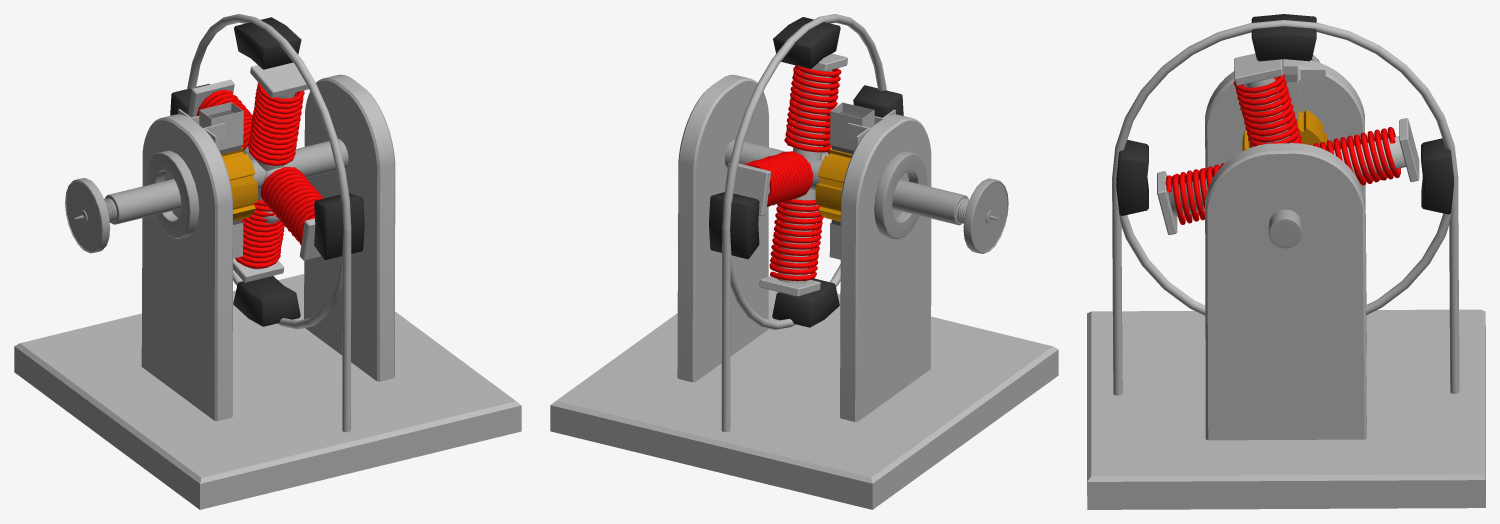
File: motar (1).fbx
3 renders of one model, left to right at view 1: azimuth 30°, elevation 25°; view 2: azimuth 150°, elevation 25°; view 3: azimuth 270°, elevation 25°, orthographic. The views are drawn at different scales.
Parts seen in each view (by area): view 1: MOUNT_0, MAGNETS_0, MAGNET_RETAINER_0, polySurface1, WINDINGBOTTOM_0, WINDINGRIGHT_0, polySurface3, polySurface2, WINDINGTOP_0, bruskcontact_0, Cube.003_0, bruush..hsg.upper_0 (+4 smaller); view 2: MOUNT_0, MAGNETS_0, MAGNET_RETAINER_0, WINDINGBOTTOM_0, WINDINGTOP_0, polySurface1, polySurface3, polySurface2, WINDINGLEFT_0, bruskcontact_0, WINDINGCORE2_0, bruush..hsg.upper_0 (+2 smaller); view 3: MOUNT_0, MAGNET_RETAINER_0, MAGNETS_0, WINDINGBOTTOM_0, WINDINGLEFT_0, WINDINGRIGHT_0, WINDINGCORE1_0, Cube.003_0, polySurface1, bruskcontact_0, Cube.002_0, Cube_0 (+3 smaller).
Boxes of the visible parts, x1=… form: MOUNT_0: x1=14, y1=74, x2=521, y2=509; MAGNETS_0: x1=170, y1=17, x2=364, y2=326; MAGNET_RETAINER_0: x1=187, y1=14, x2=351, y2=432; polySurface1: x1=74, y1=139, x2=348, y2=224; WINDINGBOTTOM_0: x1=248, y1=82, x2=304, y2=165; WINDINGRIGHT_0: x1=260, y1=167, x2=323, y2=244; polySurface3: x1=146, y1=150, x2=199, y2=238; polySurface2: x1=65, y1=178, x2=110, y2=253; WINDINGTOP_0: x1=235, y1=200, x2=284, y2=268; bruskcontact_0: x1=221, y1=146, x2=257, y2=221; Cube.003_0: x1=250, y1=62, x2=308, y2=97; bruush..hsg.upper_0: x1=199, y1=102, x2=243, y2=150; MOUNT_0: x1=550, y1=74, x2=1058, y2=509; MAGNETS_0: x1=709, y1=17, x2=903, y2=327; MAGNET_RETAINER_0: x1=721, y1=14, x2=886, y2=432; WINDINGBOTTOM_0: x1=784, y1=65, x2=841, y2=152; WINDINGTOP_0: x1=769, y1=199, x2=823, y2=281; polySurface1: x1=724, y1=139, x2=999, y2=225; polySurface3: x1=874, y1=151, x2=927, y2=239; polySurface2: x1=963, y1=178, x2=1008, y2=253; WINDINGLEFT_0: x1=743, y1=151, x2=813, y2=206; bruskcontact_0: x1=815, y1=147, x2=852, y2=221; WINDINGCORE2_0: x1=778, y1=68, x2=832, y2=283; bruush..hsg.upper_0: x1=830, y1=102, x2=874, y2=150; MOUNT_0: x1=1087, y1=59, x2=1485, y2=509; MAGNET_RETAINER_0: x1=1112, y1=20, x2=1459, y2=395; MAGNETS_0: x1=1116, y1=14, x2=1453, y2=215; WINDINGBOTTOM_0: x1=1233, y1=73, x2=1302, y2=147; WINDINGLEFT_0: x1=1308, y1=127, x2=1400, y2=185; WINDINGRIGHT_0: x1=1165, y1=163, x2=1224, y2=224; WINDINGCORE1_0: x1=1168, y1=136, x2=1405, y2=217; Cube.003_0: x1=1234, y1=53, x2=1283, y2=85; polySurface1: x1=1268, y1=209, x2=1301, y2=248; bruskcontact_0: x1=1242, y1=107, x2=1327, y2=150; Cube.002_0: x1=1399, y1=118, x2=1419, y2=182; Cube_0: x1=1157, y1=171, x2=1177, y2=234.
Bounding box in the file's own units: 604 × 615 × 548.
